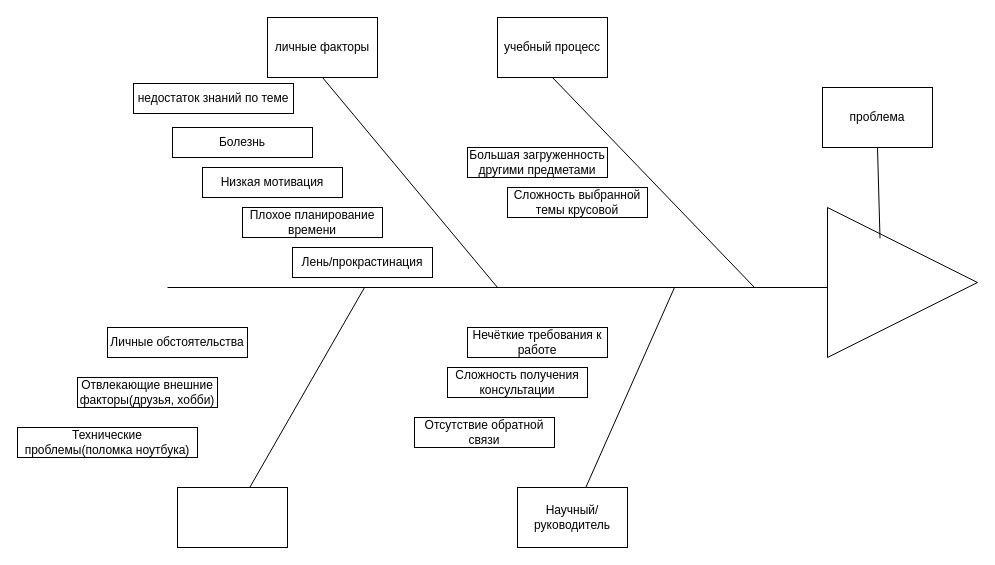
This 995x565 diagram has some shape labels left out. The centre of each missing label's shape, as x and y in pixels:
внешние факторы: (232,517)
студент(Ваня) не успевает сделать курсовой: (902,282)
